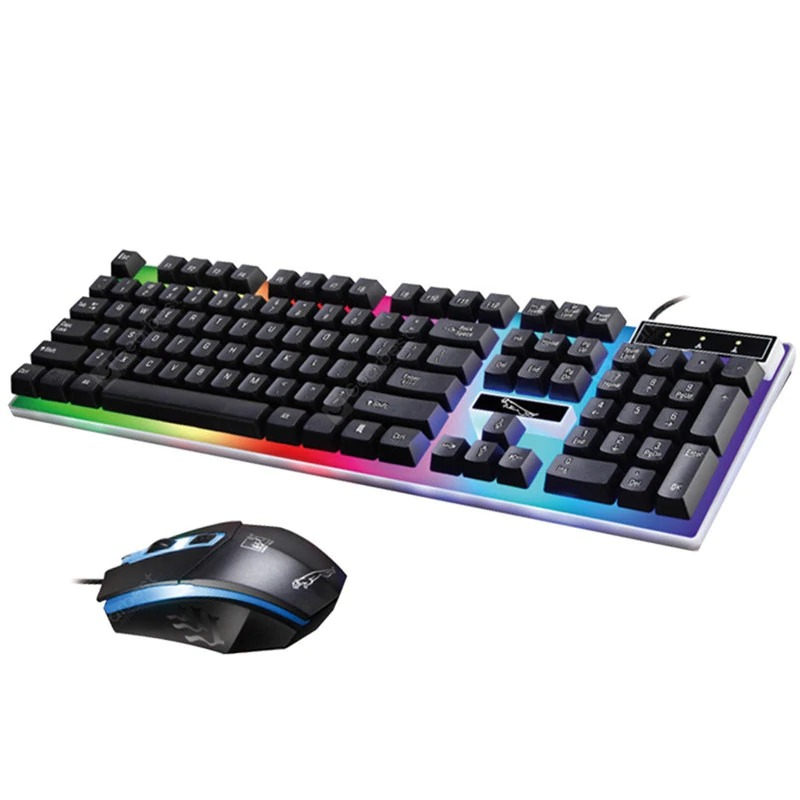keyboard: (0, 224, 800, 516)
mouse: (57, 522, 366, 681)
